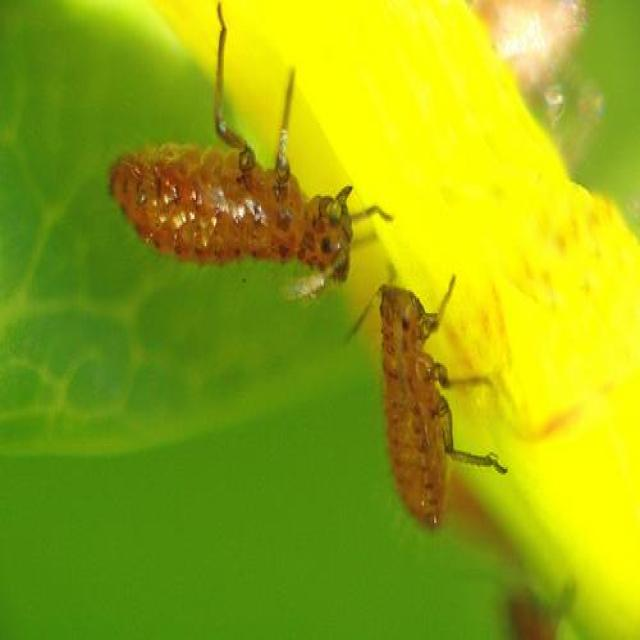Aphids: (89, 20, 402, 318), (347, 239, 500, 545)
